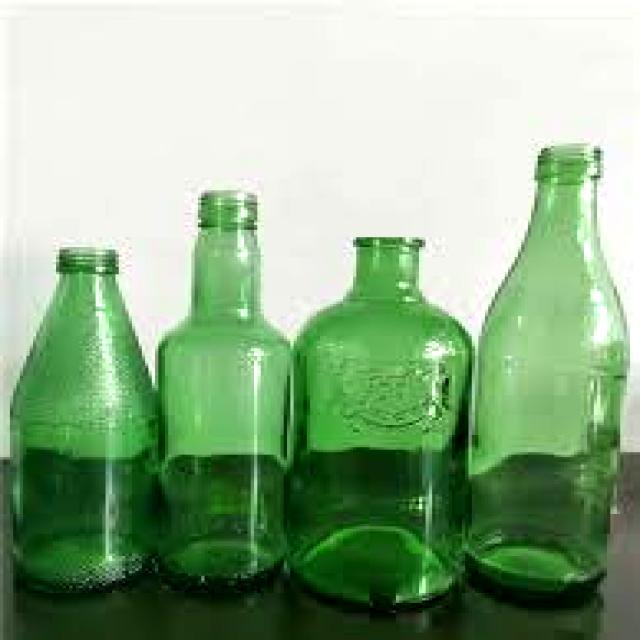Glass: (468, 139, 630, 608), (290, 233, 476, 612), (5, 245, 166, 591), (153, 194, 290, 592)
